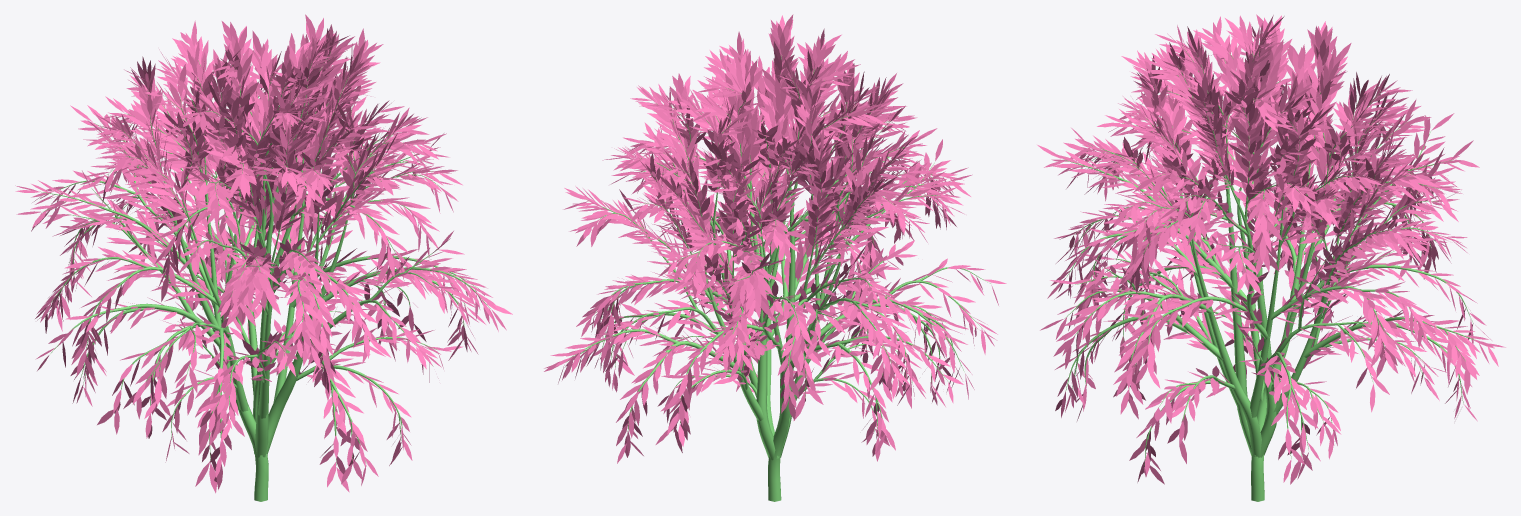
The model's file is tree 🌳.fbx.
The picture shows the model from 3 angles, left to right: view 1: azimuth 30°, elevation 25°; view 2: azimuth 150°, elevation 25°; view 3: azimuth 270°, elevation 25°; orthographic projection. The views are drawn at different scales.
Parts seen in each view (by area): view 1: leaves, tree; view 2: leaves, tree; view 3: leaves, tree.
Boxes of the visible parts, x1,y1,x2,y2 form: leaves: (15, 14, 512, 493); tree: (40, 52, 490, 501); leaves: (544, 14, 1006, 463); tree: (565, 55, 990, 501); leaves: (1037, 14, 1505, 484); tree: (1063, 39, 1474, 501).
Size of what is drawn, in the model's own units: 578 by 682 by 605.
